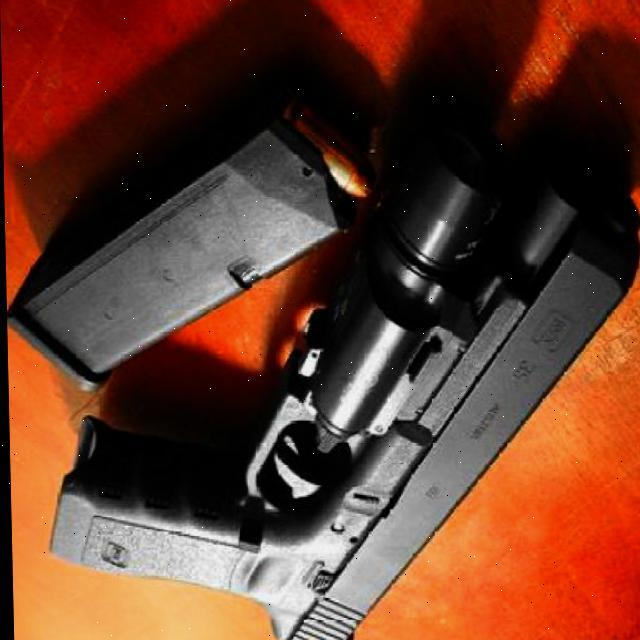gun: (42, 101, 640, 640)
